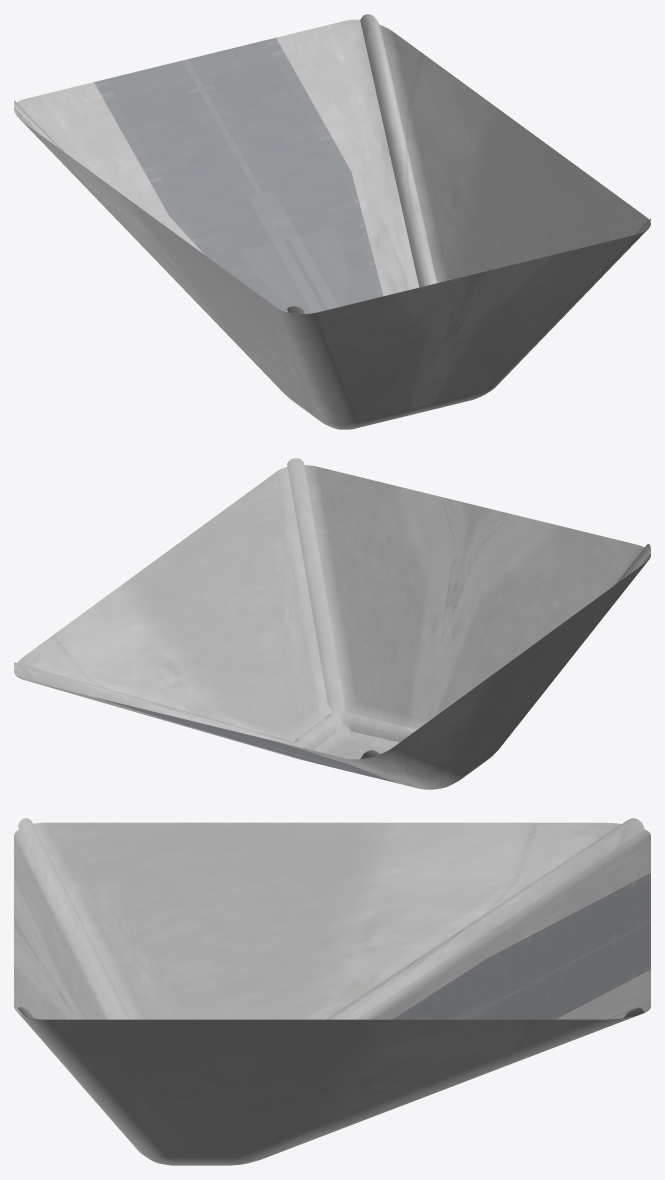
The model's file is _kicker-wall-hp.fbx.
The picture shows the model from 3 angles, top to bottom: view 1: azimuth 30°, elevation 25°; view 2: azimuth 150°, elevation 25°; view 3: azimuth 270°, elevation 25°; orthographic projection. The views are drawn at different scales.
Parts seen in each view (by area): view 1: kicker-wall-hp.001; view 2: kicker-wall-hp.001; view 3: kicker-wall-hp.001.
Part boxes in pixels (x1,y1,x2,y2): kicker-wall-hp.001: (14,14,650,429); kicker-wall-hp.001: (14,458,650,789); kicker-wall-hp.001: (14,818,650,1165).
Bounding box in the file's own units: 40000 × 20750 × 54641.
